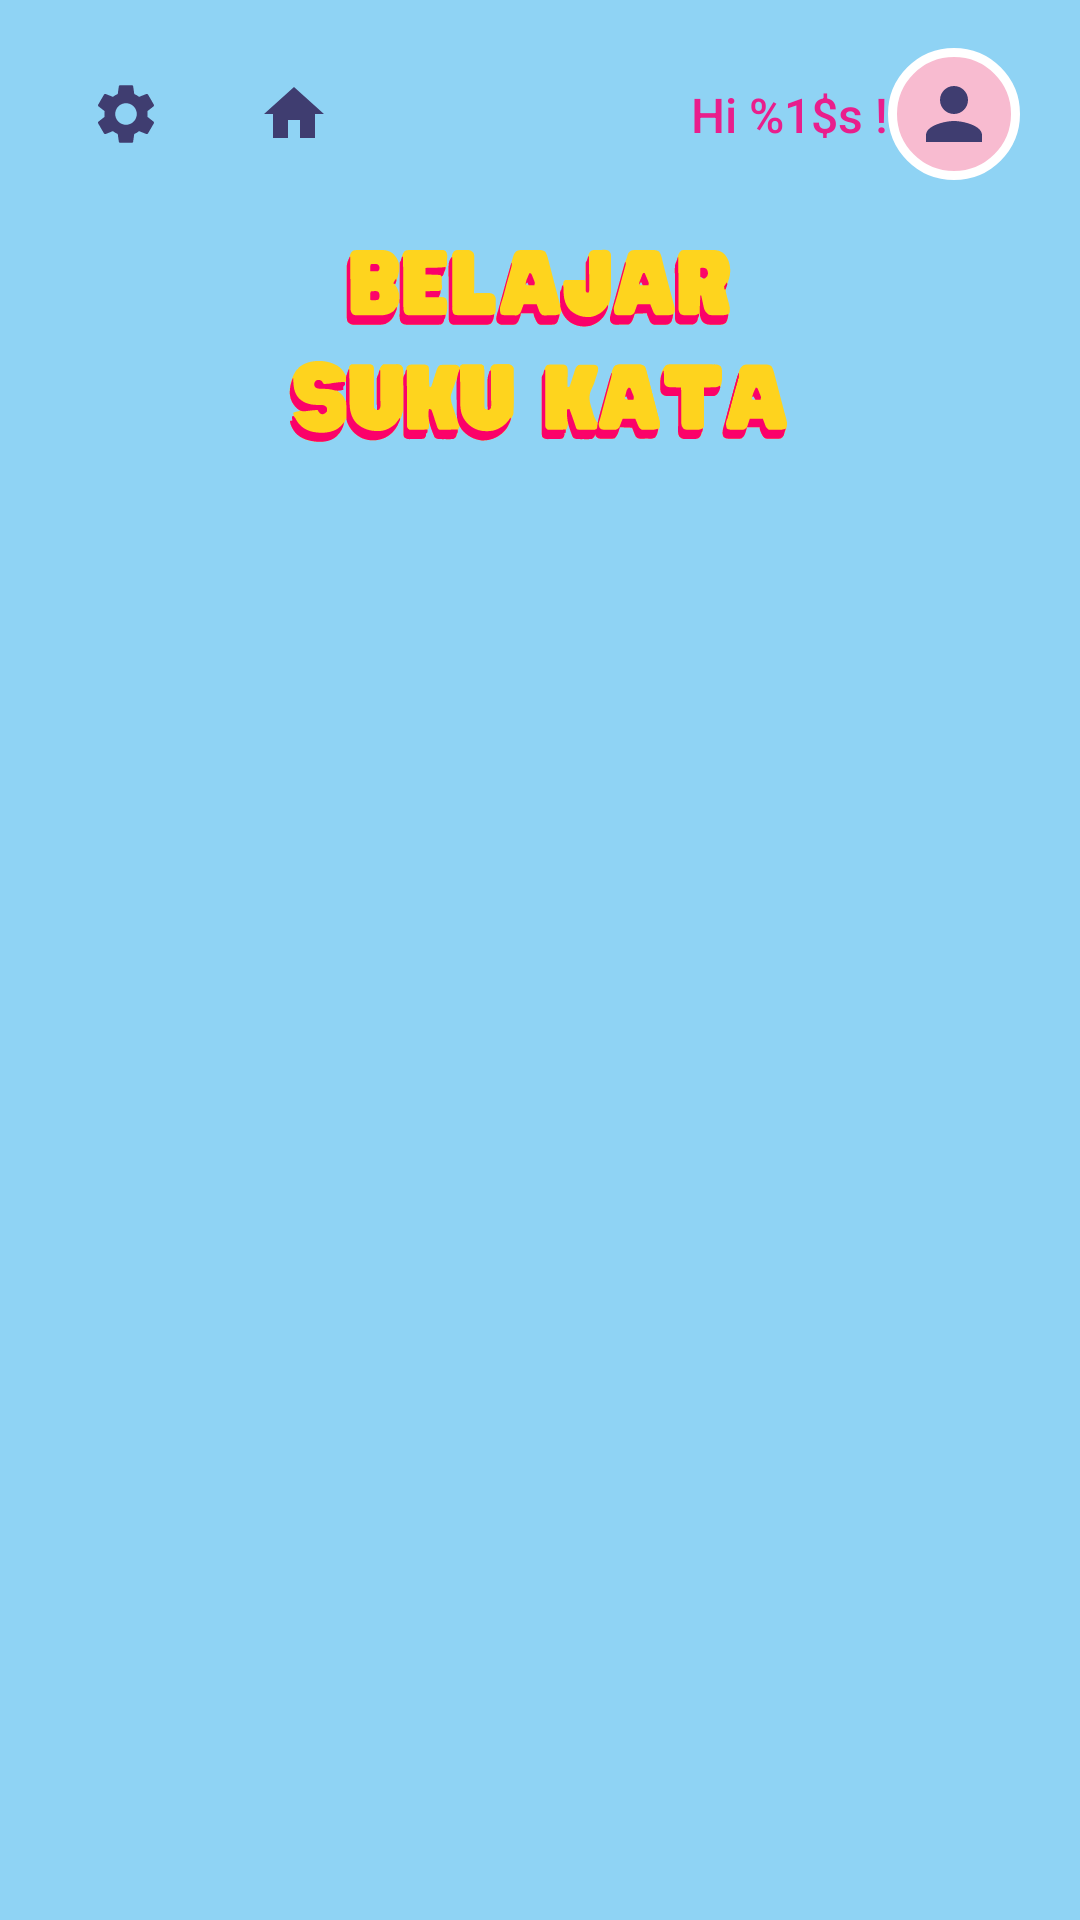

Screen size 1080w x 1920h. Icon name, then its center in pixels as point (x, y):
Pengaturan: point (126, 114)
person: point (954, 114)
